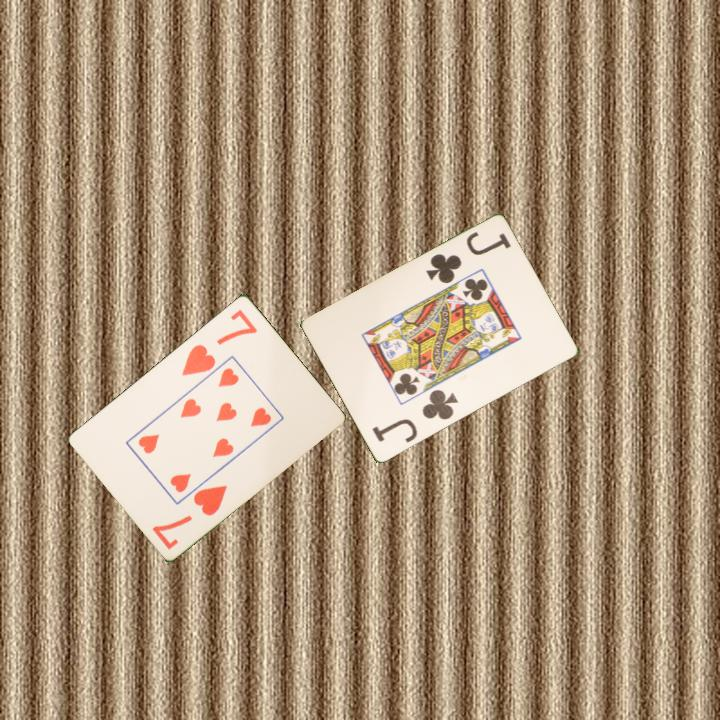7h: (178, 305, 260, 379), (149, 481, 230, 552)
Jc: (368, 386, 461, 446), (422, 228, 514, 287)
